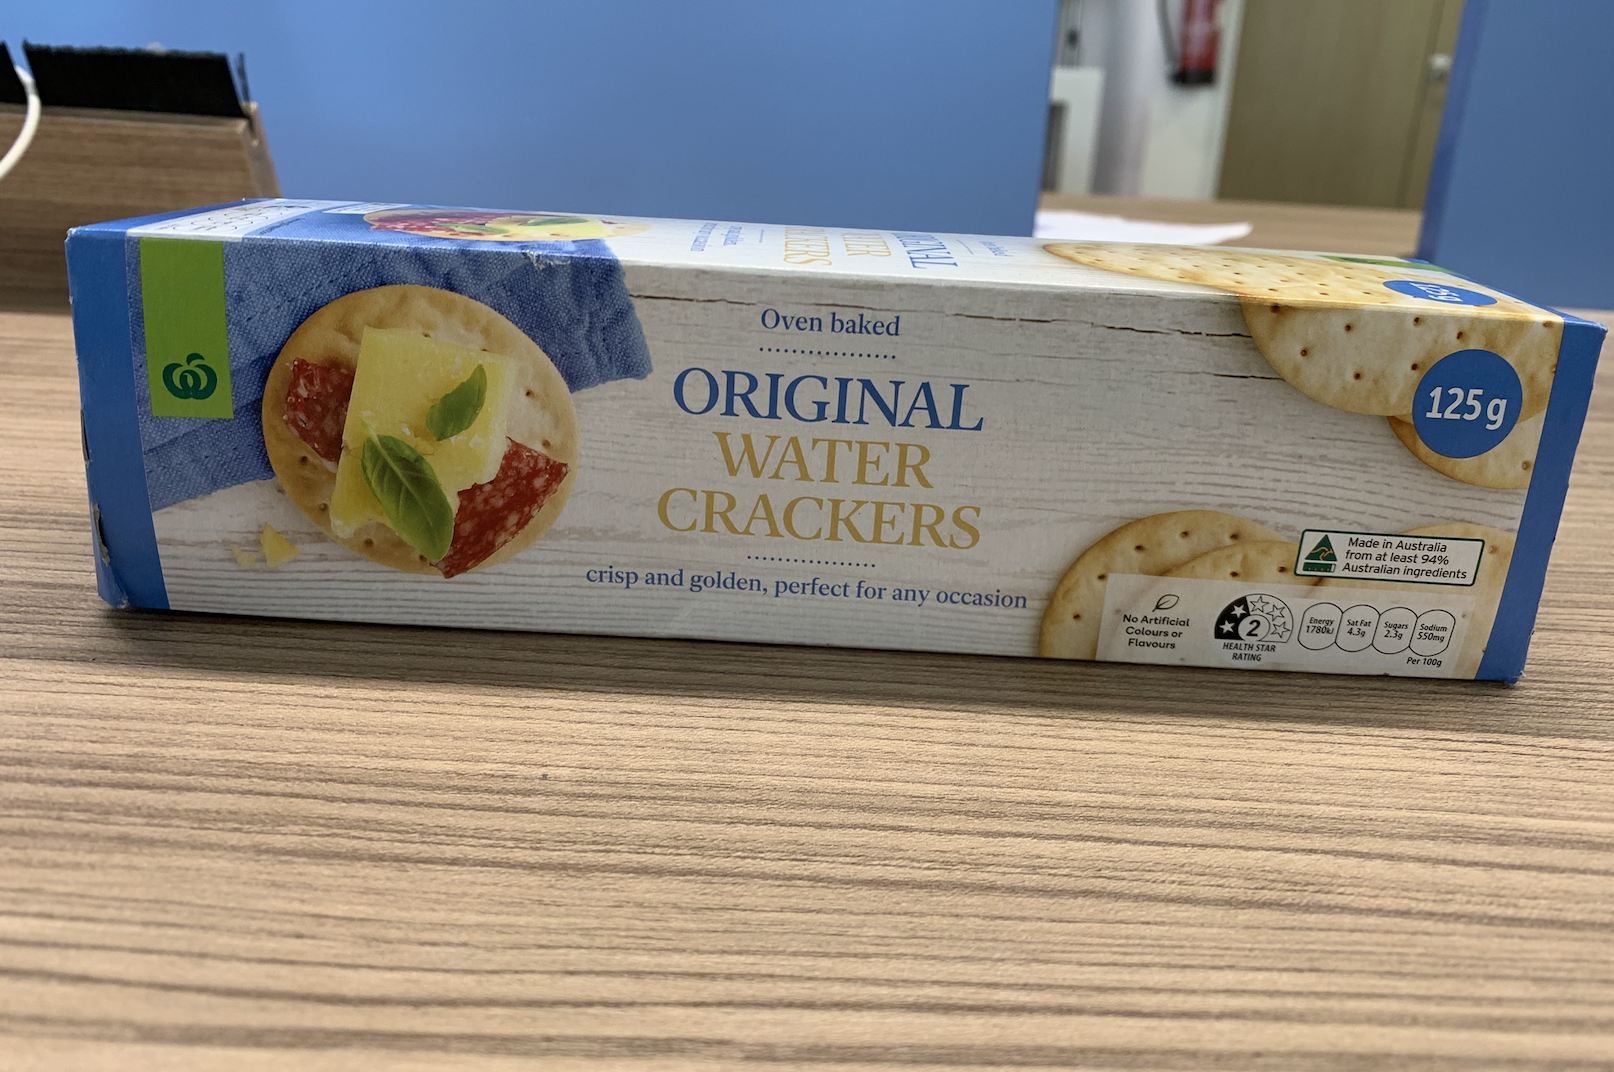crackers_100g-199g: (139, 272, 1527, 675)
